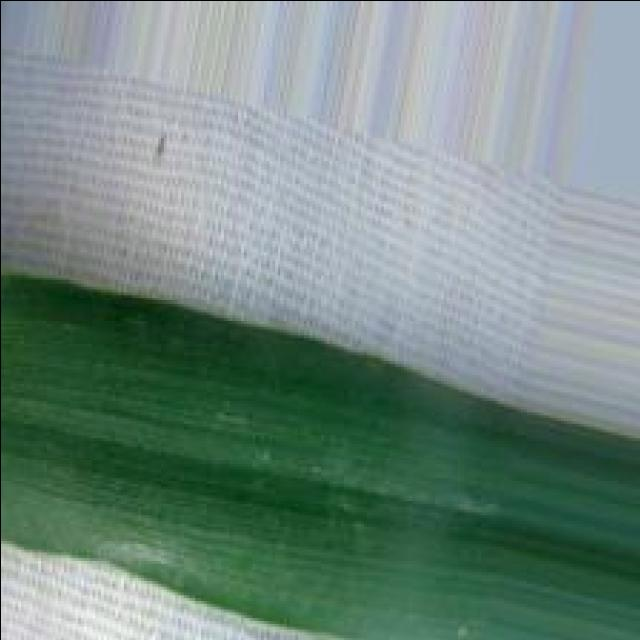Healthy: (0, 274, 640, 640)
